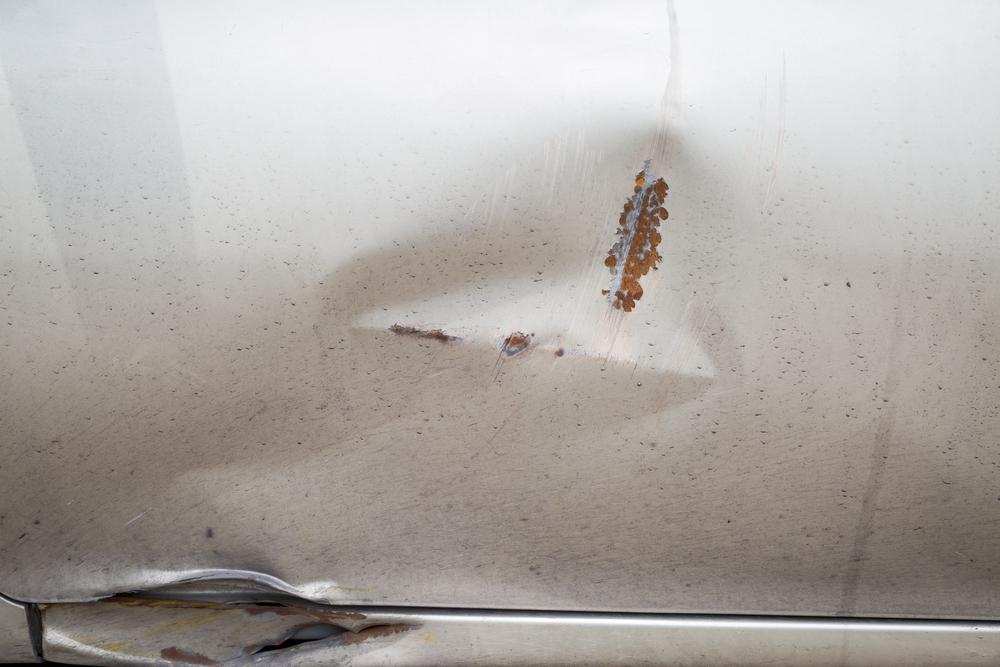crack: (249, 622, 397, 655), (226, 602, 290, 610)
dent: (320, 131, 746, 454), (82, 443, 323, 599)
